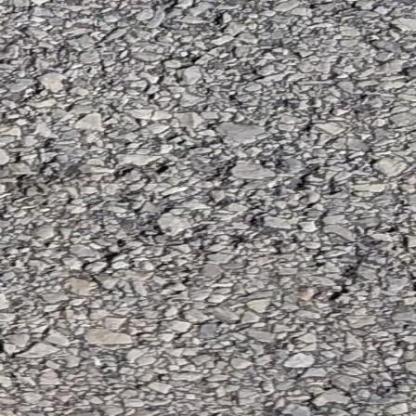Cracks: (44, 142, 189, 312)
